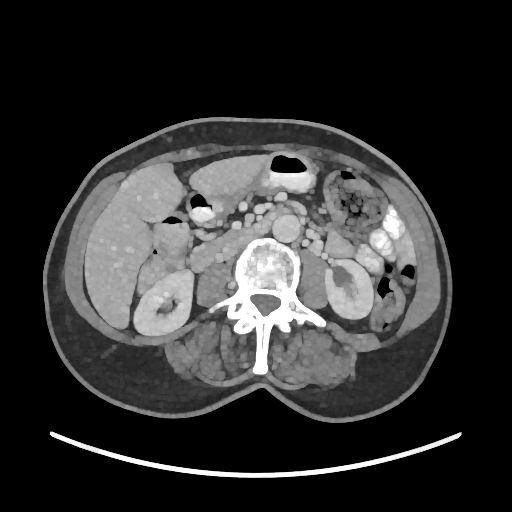Lesion: (329, 262, 357, 291)
